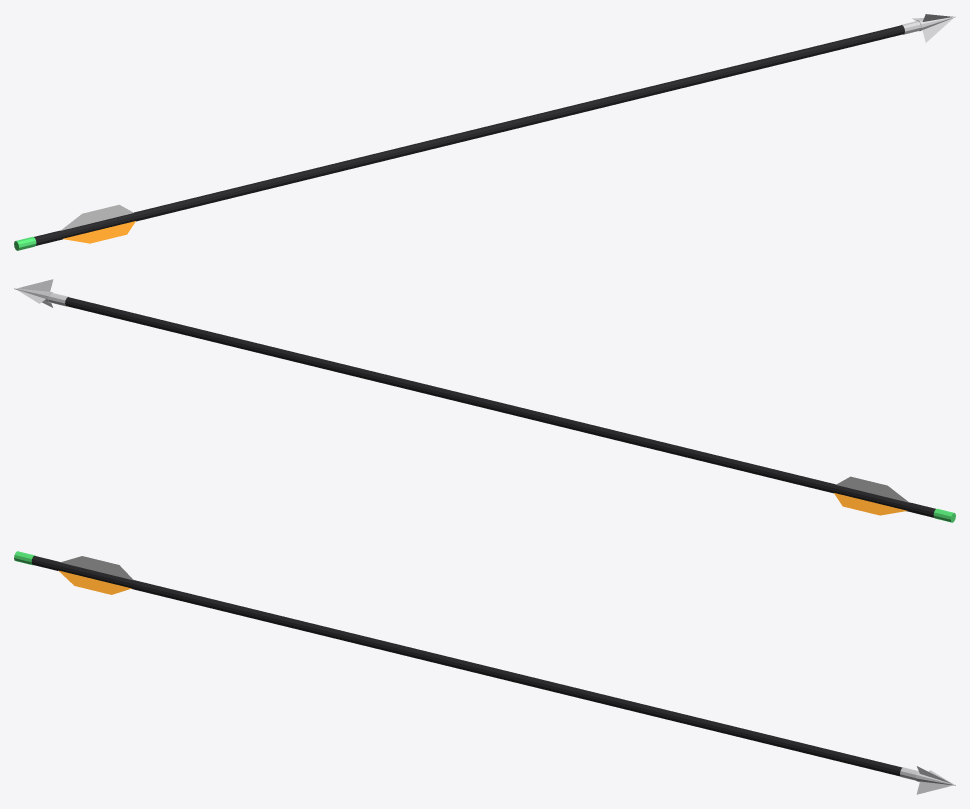
File: arrow.glb
The picture shows the model from 3 angles, top to bottom: view 1: azimuth 30°, elevation 25°; view 2: azimuth 150°, elevation 25°; view 3: azimuth 330°, elevation 25°; orthographic projection.
Parts seen in each view (by area): view 1: Arrow; view 2: Arrow; view 3: Arrow.
Part boxes in pixels (<box>): Arrow: <box>14,14,955,250</box>; Arrow: <box>14,279,955,522</box>; Arrow: <box>14,551,955,794</box>.
Bounding box in the file's own units: 0.758 × 0.0238 × 0.0238.
